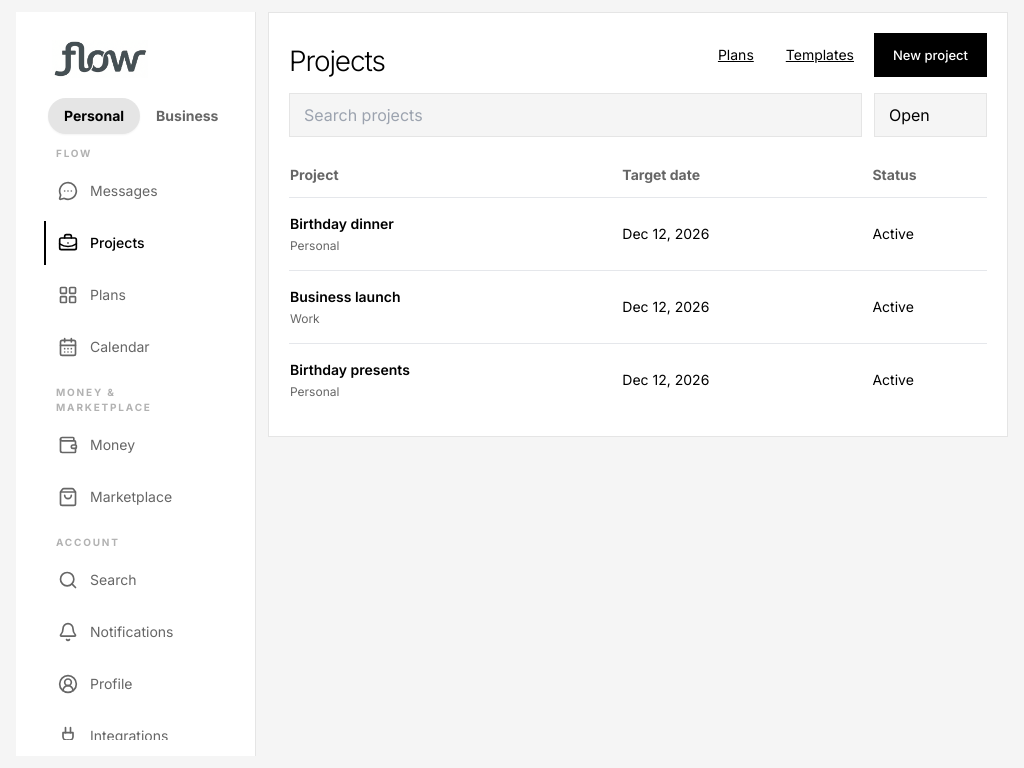
Test: opens the project form and closes it without leaving the page locked
The image size is (1024, 768).
Click the button "New project": coordinates (930, 55) [874, 33, 987, 77]
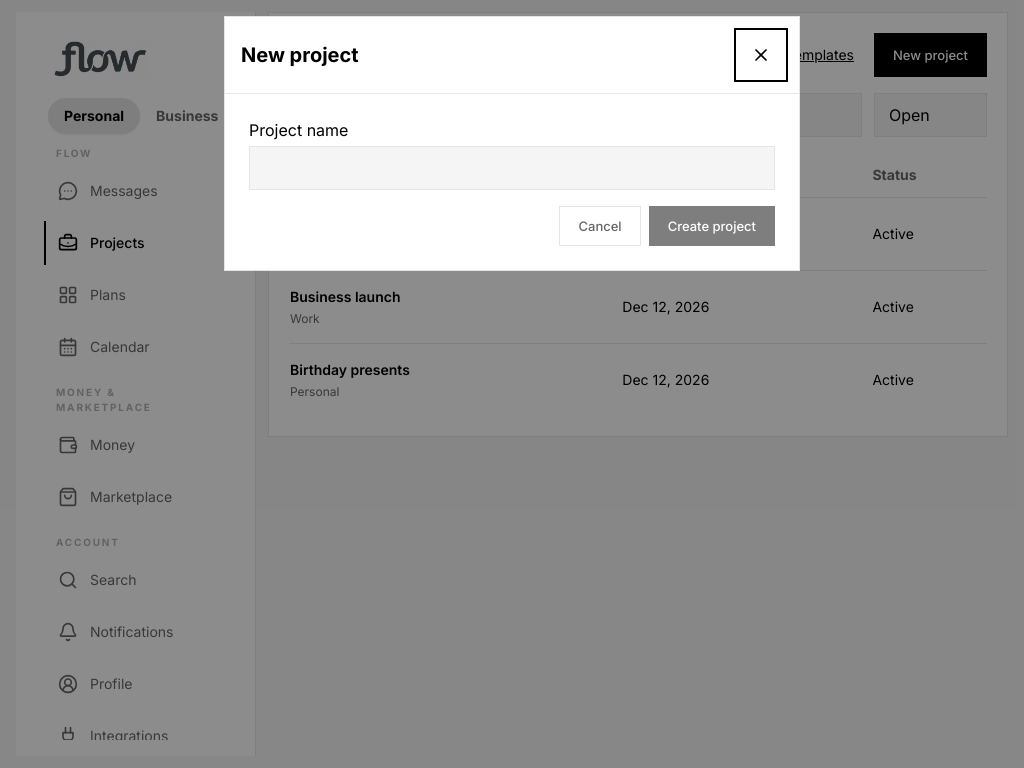
Expected: the field labelled "Project name" is shown, [249, 146, 775, 190]
Click the button named "Close": coordinates (761, 55) [739, 33, 783, 77]
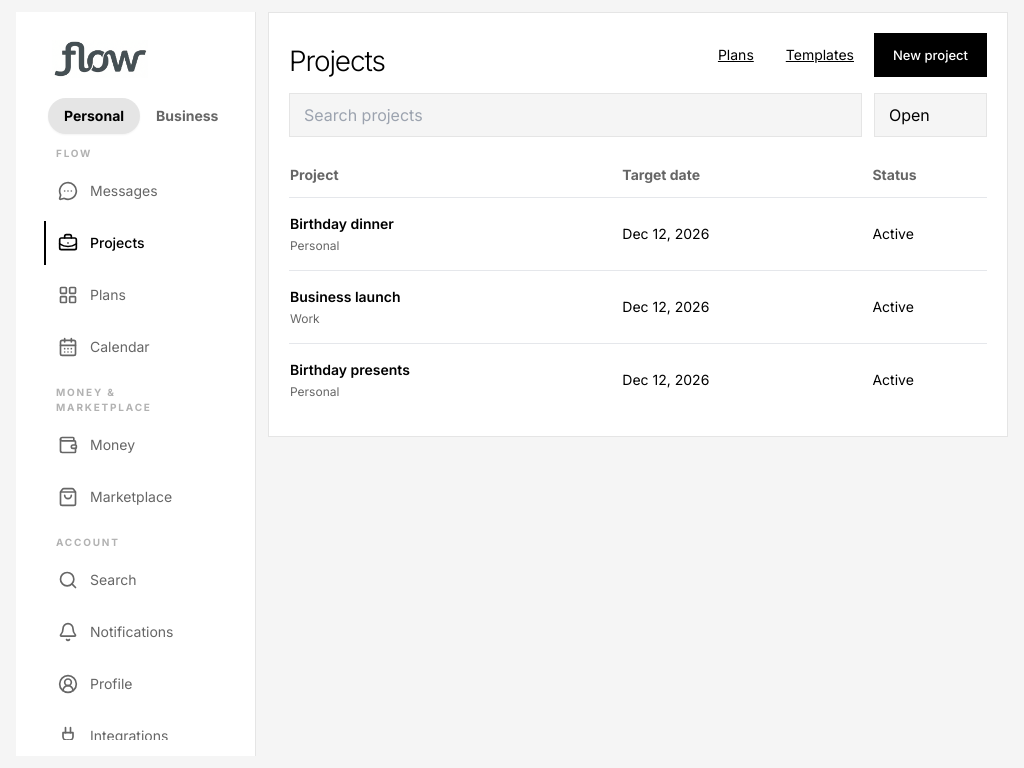
Expected: the dialog is gone
